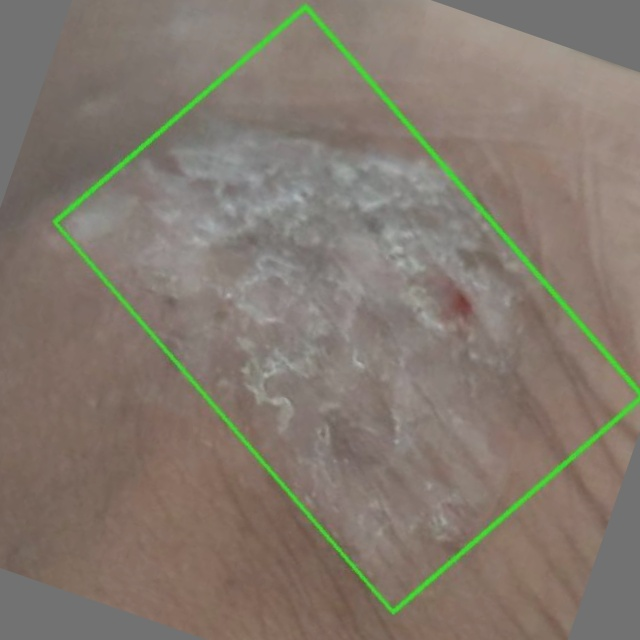Eczema: (55, 5, 639, 611)
